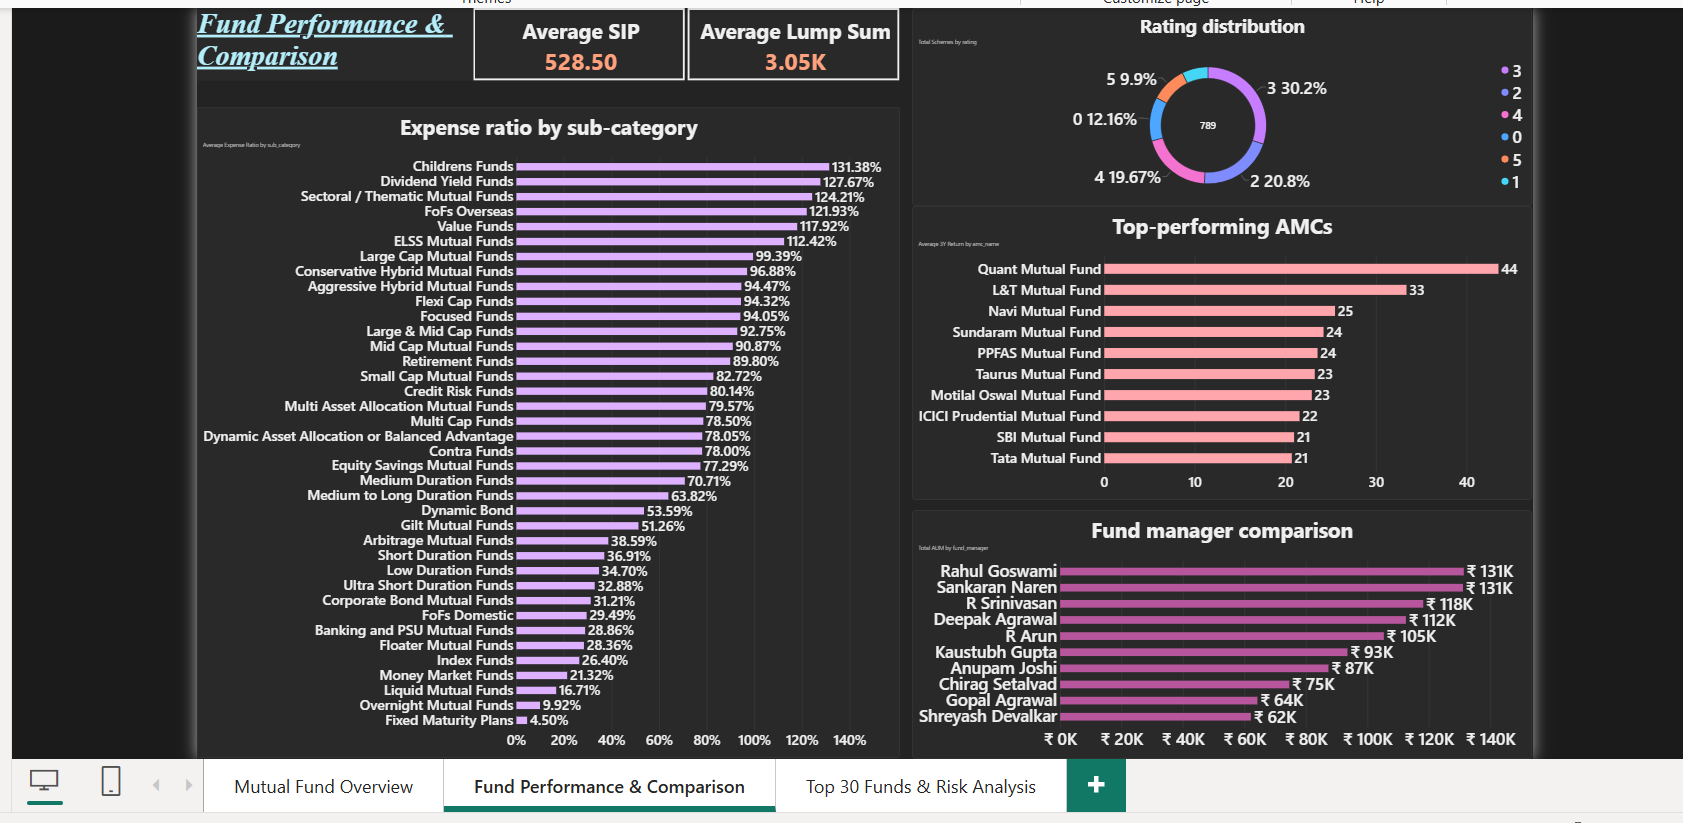

What the dashboard file says about the page in this screenshot:
{"tool":"powerbi","page":{"name":"Fund Performance & Comparison","canvas":[3840,2160],"ordinal":1},"visuals":[{"type":"clusteredBarChart","title":"Expense ratio by sub-category","fields":{"Category":["MutualFunds.sub_category"],"Y":["MutualFunds.Average Expense Ratio"]},"box":[0,286.2,2021.5,1871.6],"z":0},{"type":"clusteredBarChart","title":"Top-performing AMCs","fields":{"Category":["MutualFunds.amc_name"],"Y":["MutualFunds.Average 3Y Return"]},"box":[2057.8,567.8,1780.7,844.9],"z":1000},{"type":"cardVisual","fields":{"Data":["MutualFunds.Average SIP","MutualFunds.Average Lump Sum"]},"box":[795,0,1226.5,209],"z":2000},{"type":"clusteredBarChart","title":"Fund manager comparison","fields":{"Category":["MutualFunds.fund_manager"],"Y":["MutualFunds.Total AUM"]},"box":[2057.8,1444.6,1780.7,713.2],"z":3000},{"type":"donutChart","title":"Rating distribution","fields":{"Category":["MutualFunds.rating"],"Y":["MutualFunds.Total Schemes"]},"box":[2057.8,0,1780.7,567.8],"z":4000},{"type":"textbox","box":[0,0,795,209],"z":5000}]}

Visuals, with their boxes on the page's 3840x2160 design canvas (x1, y1, x2, y2). These are canvas units, not pixel positions in the 1683x823 screenshot, which may show the page scaled, cropped or inside an application window:
"Expense ratio by sub-category" clusteredBarChart: detection(0, 286, 2022, 2158)
"Top-performing AMCs" clusteredBarChart: detection(2058, 568, 3838, 1413)
cardVisual - MutualFunds.Average SIP x MutualFunds.Average Lump Sum: detection(795, 0, 2022, 209)
"Fund manager comparison" clusteredBarChart: detection(2058, 1445, 3838, 2158)
"Rating distribution" donutChart: detection(2058, 0, 3838, 568)
textbox: detection(0, 0, 795, 209)
